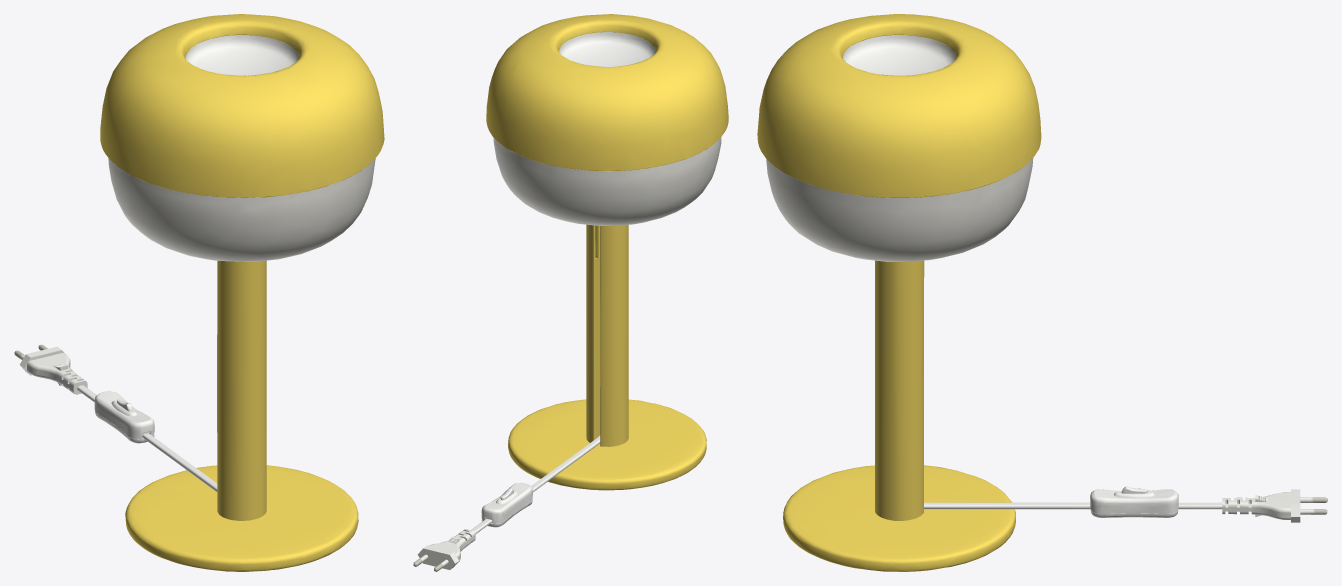
Rendered from blasverk_table_lamp_yellow.glb.
The picture shows the model from 3 angles, left to right: view 1: azimuth 30°, elevation 25°; view 2: azimuth 150°, elevation 25°; view 3: azimuth 270°, elevation 25°; orthographic projection. The views are drawn at different scales.
Visible parts, largest first — view 1: 60547974; view 2: 60547974; view 3: 60547974.
Part boxes in pixels (left/top/right/bottom): 60547974: left=14, top=14, right=384, bottom=571; 60547974: left=413, top=14, right=728, bottom=571; 60547974: left=757, top=14, right=1327, bottom=571.
Size of the model in its own units: 0.1948 by 0.3595 by 0.3909.
Materials: 1 (1 with a texture image).
